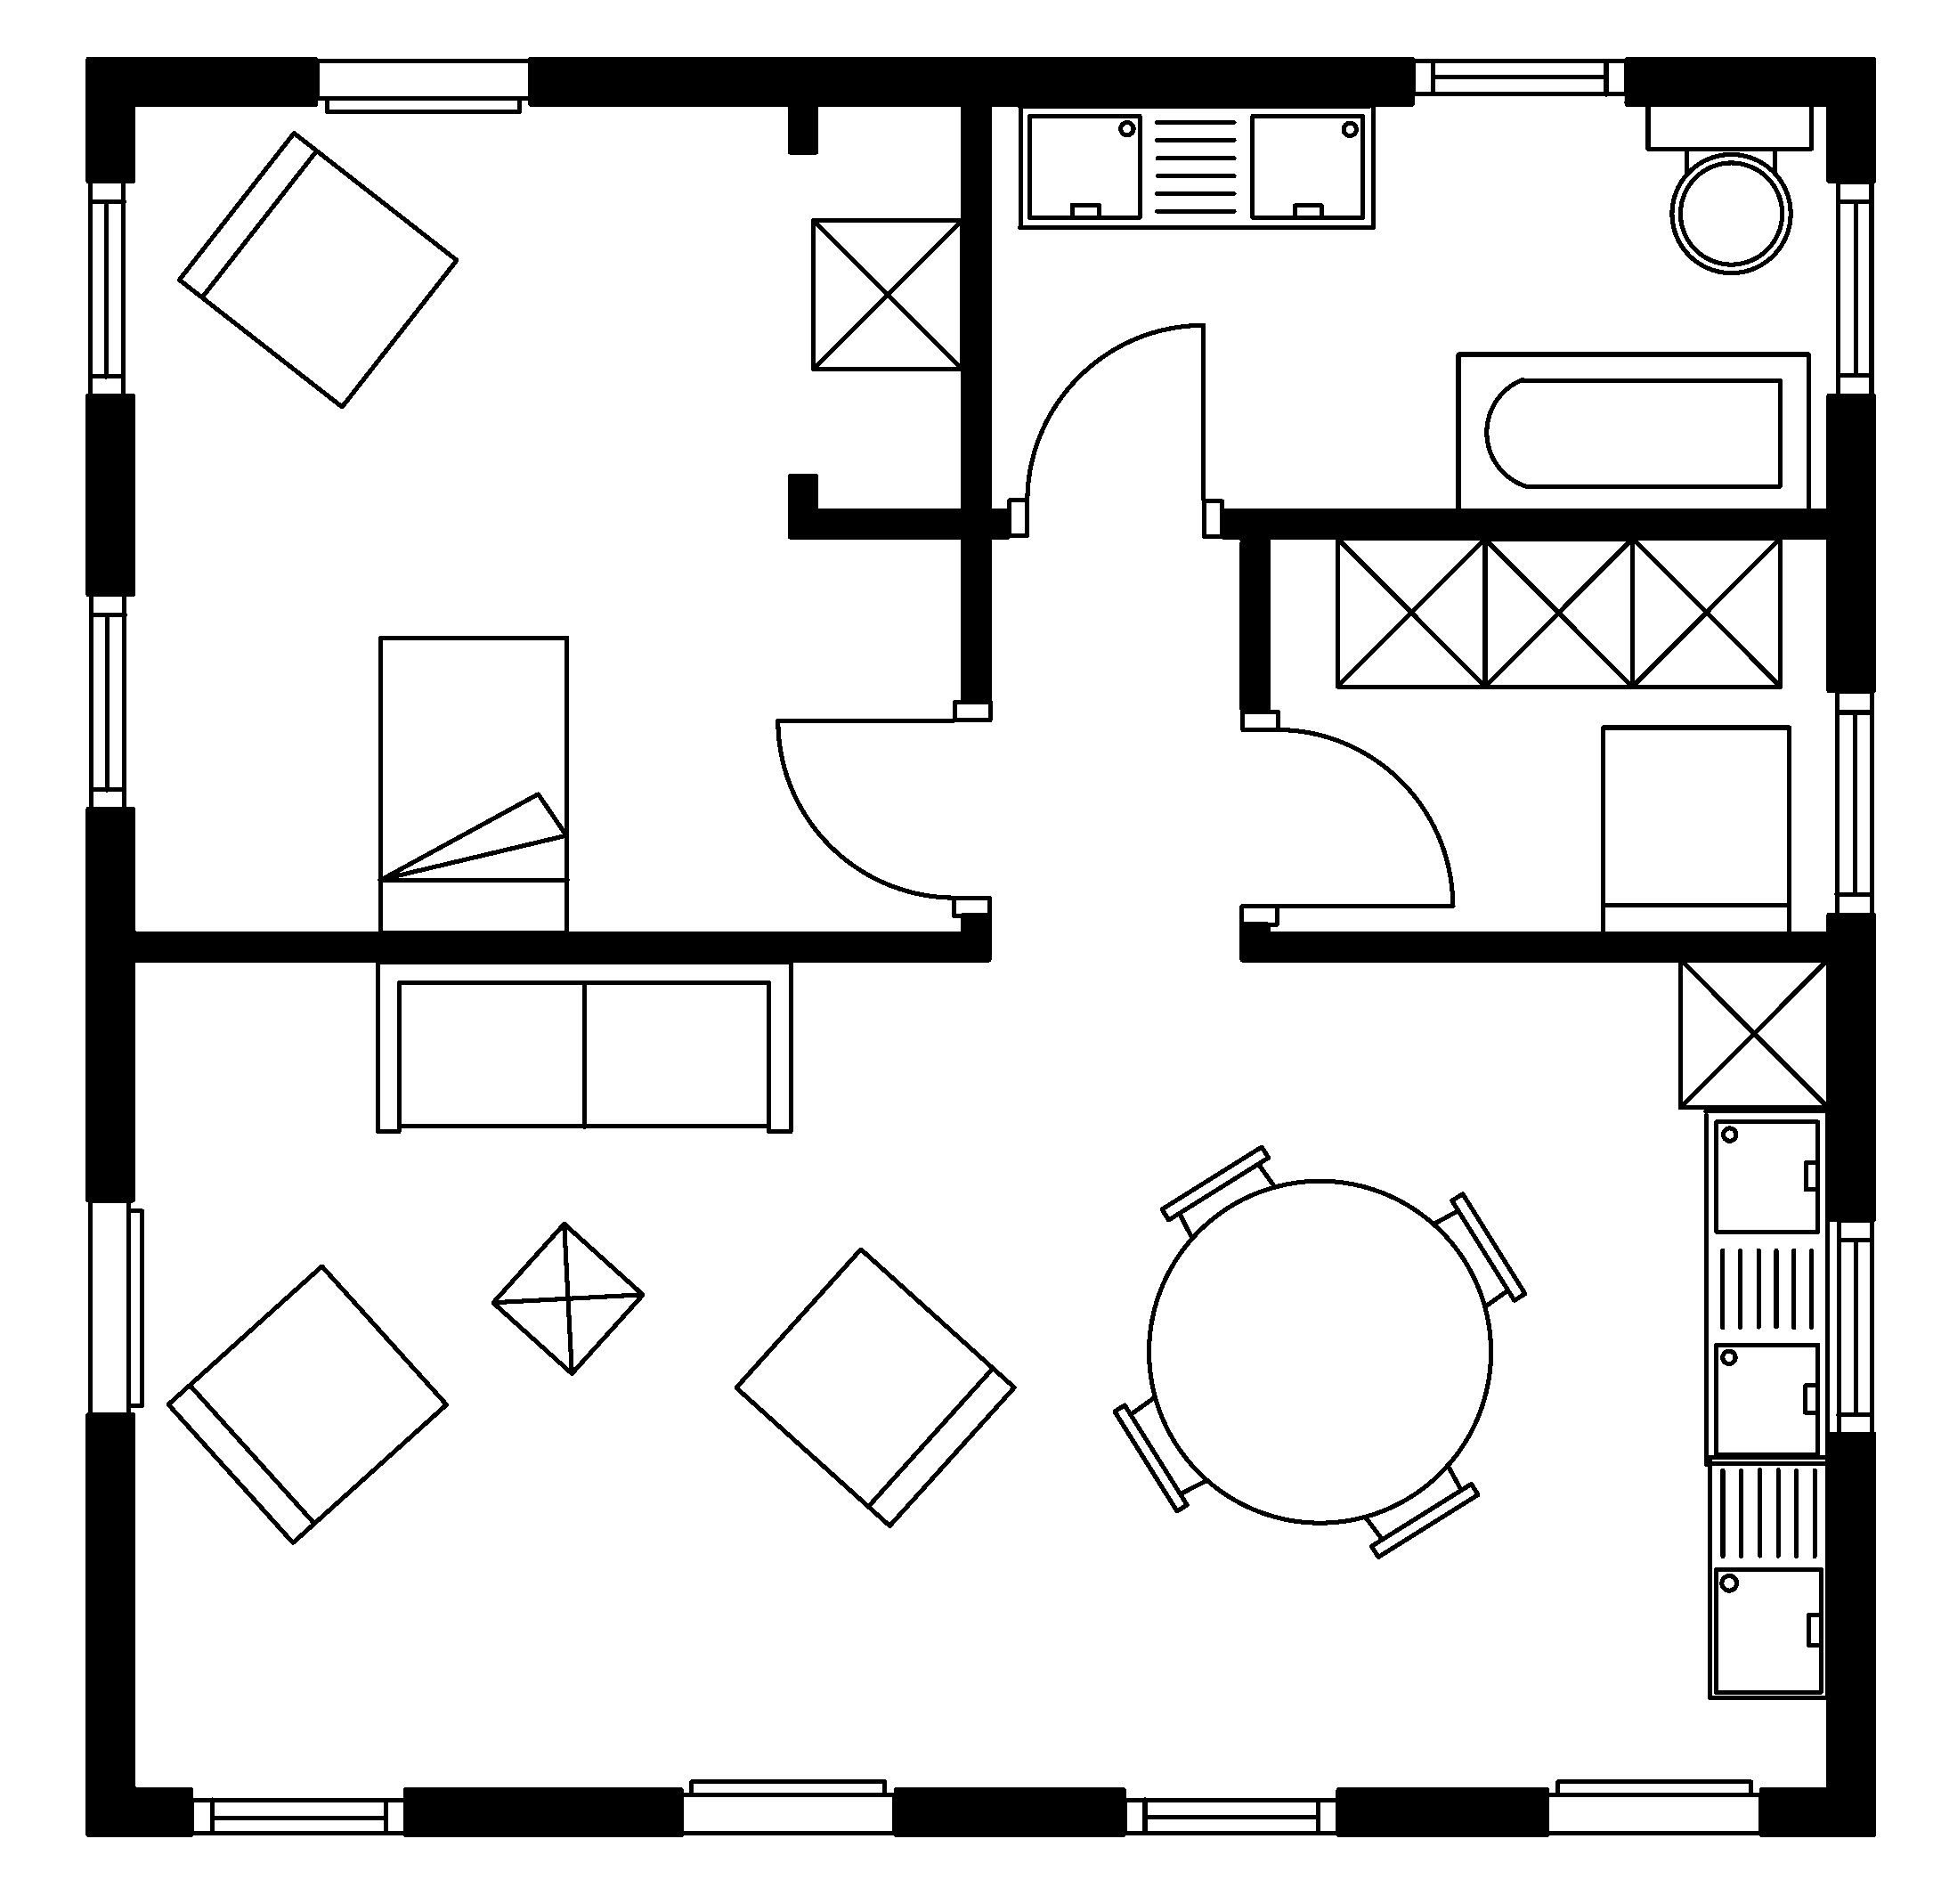bed: (376, 633, 570, 935)
coffee_table: (488, 1219, 645, 1377), (809, 216, 966, 371), (1480, 534, 1635, 689), (1628, 534, 1783, 689), (1333, 534, 1489, 689), (1675, 955, 1830, 1111)
large_sink: (1644, 101, 1814, 274)
large_sofa: (373, 959, 793, 1135)
round_table: (1110, 1142, 1529, 1561)
sink: (1706, 1454, 1830, 1702)
small_sofa: (164, 1262, 448, 1547), (732, 1245, 1016, 1529), (176, 129, 460, 410), (1598, 724, 1792, 936)
tub: (1454, 350, 1811, 513)
twin_sink: (1014, 101, 1375, 230), (1701, 1107, 1830, 1468)
